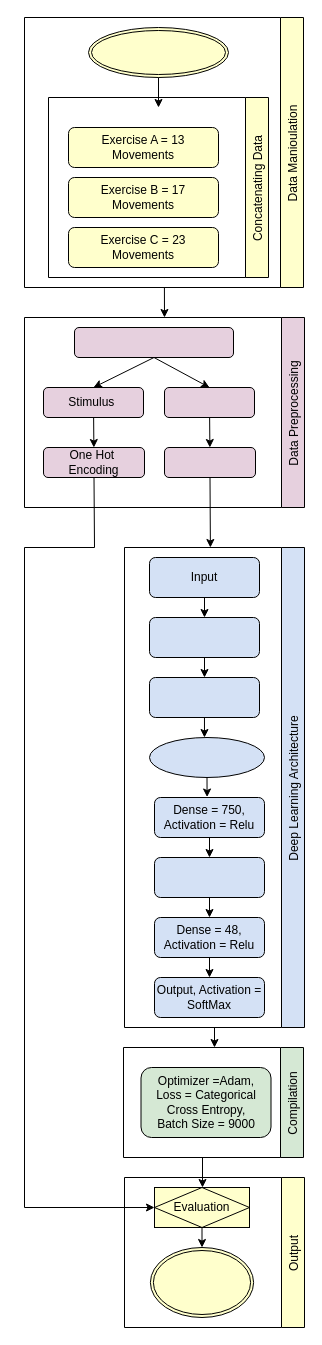
Some shapes in this 322 by 1345 pixel diagram are drawn without their labels. The centre of each missing label's shape, as x and y in pixels:
Dense = 1500, Activation = Relu: pixel 204 697
Dense = 3000, Activation = Relu: pixel 204 637
Dense = 375, Activation = Relu: pixel 209 877
Dropout = 0.2: pixel 206 757
Manipulated Data: pixel 154 342
Ninapro Database 1: pixel 158 52
Prediction = 53 Movements: pixel 201 1282
sEMG Signals: pixel 209 402
Standard Scaling: pixel 210 462
